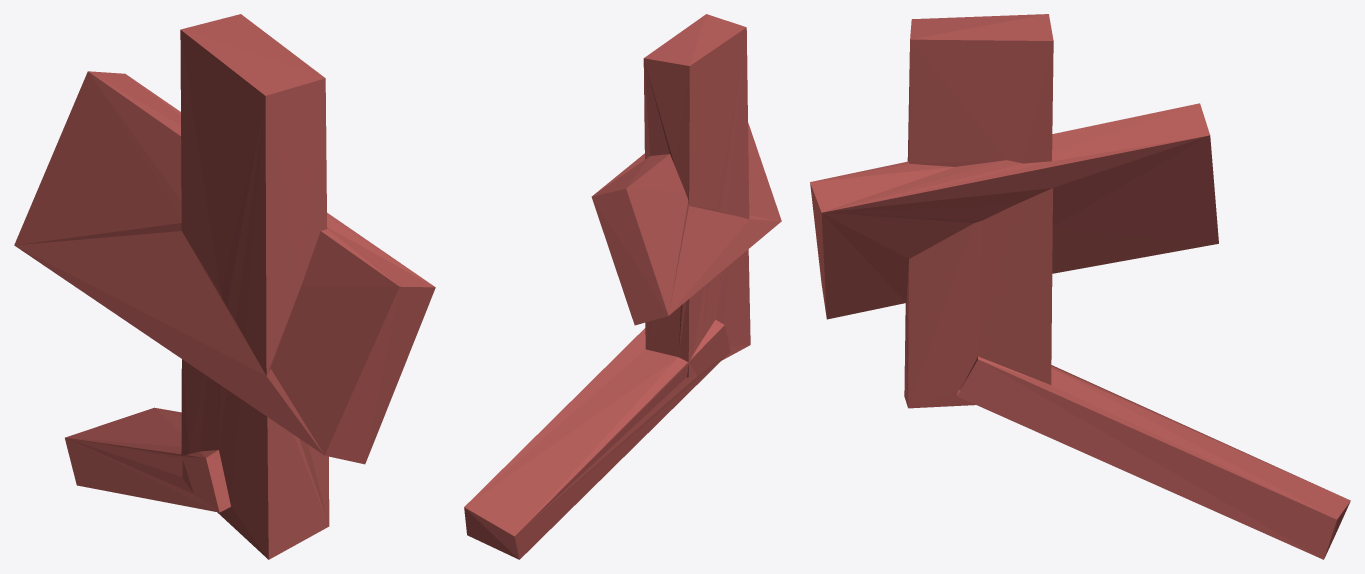
The picture shows the model from 3 angles, left to right: view 1: azimuth 30°, elevation 25°; view 2: azimuth 150°, elevation 25°; view 3: azimuth 270°, elevation 25°; orthographic projection. The views are drawn at different scales.
Visible parts, largest first — view 1: 613_Cube.2465; view 2: 613_Cube.2465; view 3: 613_Cube.2465.
Part boxes in pixels (bbox=[...]): 613_Cube.2465: bbox=[14, 14, 435, 559]; 613_Cube.2465: bbox=[464, 14, 781, 559]; 613_Cube.2465: bbox=[810, 14, 1350, 559].
Size of the model in its own units: 6.29 by 16.34 by 16.24.
